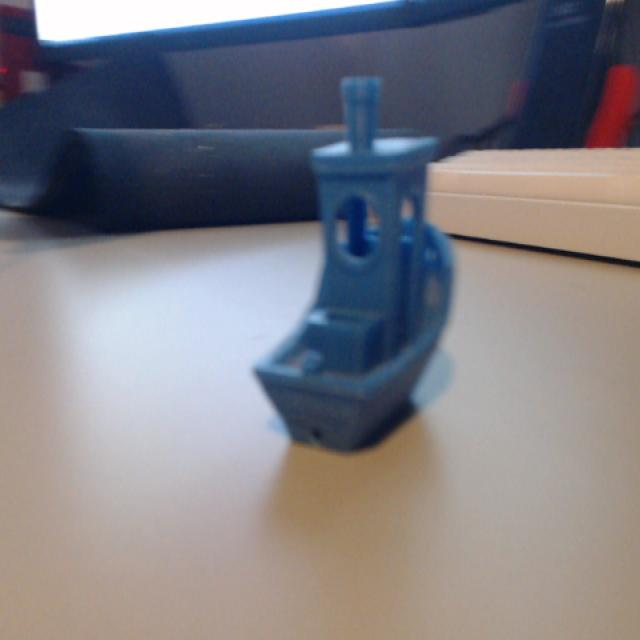benchy: (249, 71, 457, 453)
